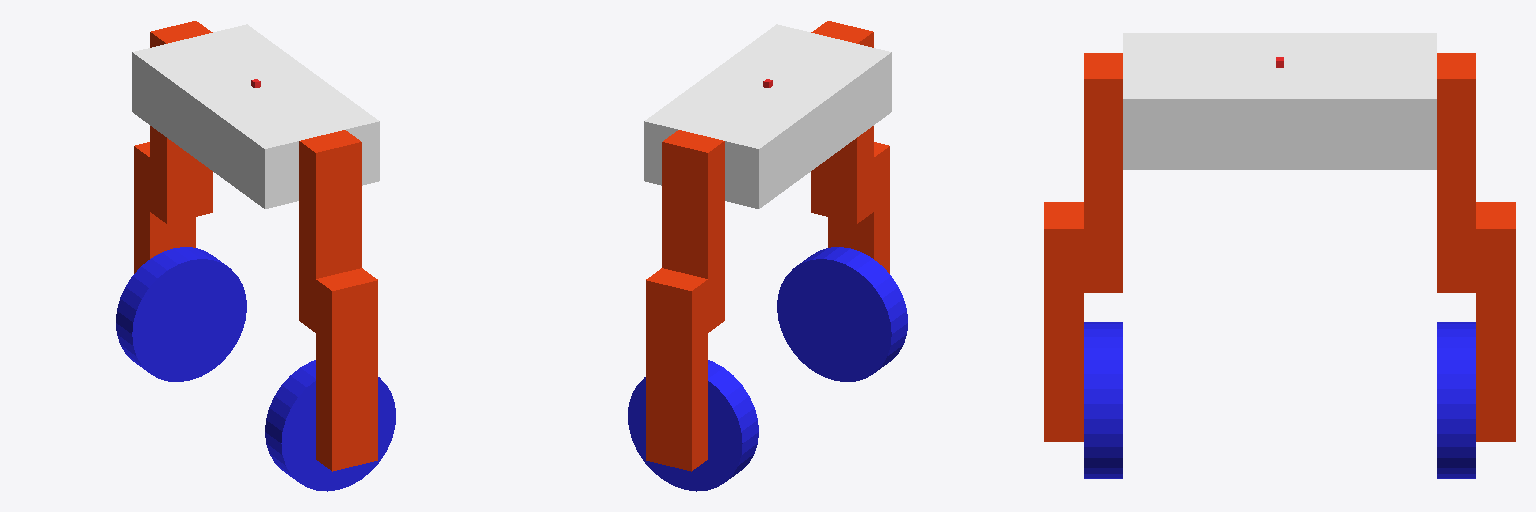
The robot description file, URDF, robot "bipedal_robot":
<?xml version="1.0" ?>
<!-- =================================================================================== -->
<!-- |    This document was autogenerated by xacro from bipedal_robot.urdf.xacro       | -->
<!-- |    EDITING THIS FILE BY HAND IS NOT RECOMMENDED                                 | -->
<!-- =================================================================================== -->
<robot name="bipedal_robot">
  <!-- This file is not a robot in and of itself, it just contains some useful tags that could be included in any robot -->
  <!-- Specify some colours -->
  <material name="white">
    <color rgba="1 1 1 1"/>
  </material>
  <material name="orange">
    <color rgba="1 0.3 0.1 1"/>
  </material>
  <material name="blue">
    <color rgba="0.2 0.2 1 1"/>
  </material>
  <material name="red">
    <color rgba="1 0.2 0.2 1"/>
  </material>
  <!-- Specify some standard inertial calculations https://en.wikipedia.org/wiki/List_of_moments_of_inertia -->
  <!-- These make use of xacro's mathematical functionality -->
  <!--*** Define Properties ***-->
  <!--*** Define Macros ***-->
  <!-- Initializing Macro -->
  <!-- Links -->
  <!-- World -->
  <link name="world"/>
  <link name="base_link">
    <visual>
      <origin rpy="0 0 0" xyz="0 0 0"/>
      <geometry>
        <box size="0.2 0.4 0.1"/>
      </geometry>
      <material name="white"/>
    </visual>
    <collision>
      <origin rpy="0 0 0" xyz="0 0 0"/>
      <geometry>
        <box size="0.2 0.4 0.1"/>
      </geometry>
    </collision>
    <inertial>
      <origin rpy="0 0 0" xyz="0 0 0"/>
      <mass value="17.6"/>
      <inertia ixx="0.2493333333333334" ixy="0.0" ixz="0.0" iyy="0.07333333333333335" iyz="0.0" izz="0.2933333333333334"/>
    </inertial>
  </link>
  <link name="right_upper_leg_link">
    <visual>
      <origin rpy="0 0 0" xyz="0 0 -0.09999999999999999"/>
      <geometry>
        <box size="0.08 0.05 0.3"/>
      </geometry>
      <material name="orange"/>
    </visual>
    <collision>
      <origin rpy="0 0 0" xyz="0 0 -0.09999999999999999"/>
      <geometry>
        <box size="0.08 0.05 0.3"/>
      </geometry>
    </collision>
    <inertial>
      <origin rpy="0 0 0" xyz="0 0 -0.09999999999999999"/>
      <mass value="1.4"/>
      <inertia ixx="0.010791666666666665" ixy="0.0" ixz="0.0" iyy="0.011246666666666665" iyz="0.0" izz="0.0010383333333333334"/>
    </inertial>
  </link>
  <link name="right_lower_leg_link">
    <visual>
      <origin rpy="0 0 0" xyz="0 0 -0.09999999999999999"/>
      <geometry>
        <box size="0.08 0.05 0.3"/>
      </geometry>
      <material name="orange"/>
    </visual>
    <collision>
      <origin rpy="0 0 0" xyz="0 0 -0.09999999999999999"/>
      <geometry>
        <box size="0.08 0.05 0.3"/>
      </geometry>
    </collision>
    <inertial>
      <origin rpy="0 0 0" xyz="0 0 -0.09999999999999999"/>
      <mass value="1.4"/>
      <inertia ixx="0.010791666666666665" ixy="0.0" ixz="0.0" iyy="0.011246666666666665" iyz="0.0" izz="0.0010383333333333334"/>
    </inertial>
  </link>
  <link name="right_wheel_link">
    <visual>
      <origin rpy="0 0 0" xyz="0 0 0"/>
      <geometry>
        <cylinder length="0.05" radius="0.1"/>
      </geometry>
      <material name="blue"/>
    </visual>
    <collision>
      <origin rpy="0 0 0" xyz="0 0 0"/>
      <geometry>
        <cylinder length="0.05" radius="0.1"/>
      </geometry>
    </collision>
    <inertial>
      <origin rpy="0 0 0" xyz="0 0 0"/>
      <mass value="2.24"/>
      <inertia ixx="0.006066666666666668" ixy="0.0" ixz="0.0" iyy="0.006066666666666668" iyz="0.0" izz="0.011200000000000003"/>
    </inertial>
  </link>
  <link name="left_upper_leg_link">
    <visual>
      <origin rpy="0 0 0" xyz="0 0 -0.09999999999999999"/>
      <geometry>
        <box size="0.08 0.05 0.3"/>
      </geometry>
      <material name="orange"/>
    </visual>
    <collision>
      <origin rpy="0 0 0" xyz="0 0 -0.09999999999999999"/>
      <geometry>
        <box size="0.08 0.05 0.3"/>
      </geometry>
    </collision>
    <inertial>
      <origin rpy="0 0 0" xyz="0 0 -0.09999999999999999"/>
      <mass value="1.4"/>
      <inertia ixx="0.010791666666666665" ixy="0.0" ixz="0.0" iyy="0.011246666666666665" iyz="0.0" izz="0.0010383333333333334"/>
    </inertial>
  </link>
  <link name="left_lower_leg_link">
    <visual>
      <origin rpy="0 0 0" xyz="0 0 -0.09999999999999999"/>
      <geometry>
        <box size="0.08 0.05 0.3"/>
      </geometry>
      <material name="orange"/>
    </visual>
    <collision>
      <origin rpy="0 0 0" xyz="0 0 -0.09999999999999999"/>
      <geometry>
        <box size="0.08 0.05 0.3"/>
      </geometry>
    </collision>
    <inertial>
      <origin rpy="0 0 0" xyz="0 0 -0.09999999999999999"/>
      <mass value="1.4"/>
      <inertia ixx="0.010791666666666665" ixy="0.0" ixz="0.0" iyy="0.011246666666666665" iyz="0.0" izz="0.0010383333333333334"/>
    </inertial>
  </link>
  <link name="left_wheel_link">
    <visual>
      <origin rpy="0 0 0" xyz="0 0 0"/>
      <geometry>
        <cylinder length="0.05" radius="0.1"/>
      </geometry>
      <material name="blue"/>
    </visual>
    <collision>
      <origin rpy="0 0 0" xyz="0 0 0"/>
      <geometry>
        <cylinder length="0.05" radius="0.1"/>
      </geometry>
    </collision>
    <inertial>
      <origin rpy="0 0 0" xyz="0 0 0"/>
      <mass value="2.24"/>
      <inertia ixx="0.006066666666666668" ixy="0.0" ixz="0.0" iyy="0.006066666666666668" iyz="0.0" izz="0.011200000000000003"/>
    </inertial>
  </link>
  <!-- IMU -->
  <link name="IMU_link">
    <inertial>
      <mass value="0.001"/>
      <origin rpy="0 0 0" xyz="0 0 0"/>
      <inertia ixx="0.0001" ixy="0" ixz="0" iyy="0.000001" iyz="0" izz="0.0001"/>
    </inertial>
    <visual>
      <origin rpy="0 0 0" xyz="0 0 0"/>
      <geometry>
        <box size="0.01 0.01 0.01"/>
      </geometry>
      <material name="red"/>
    </visual>
    <collision>
      <origin rpy="0 0 0" xyz="0 0 0"/>
      <geometry>
        <box size=".01 .01 .01"/>
      </geometry>
    </collision>
  </link>
  <!-- Joints -->
  <!-- World -->
  <joint name="base_joint" type="floating">
    <origin rpy="0 0 0" xyz="0 0 1"/>
    <parent link="world"/>
    <child link="base_link"/>
  </joint>
  <joint name="hip_right_joint" type="revolute">
    <parent link="base_link"/>
    <child link="right_upper_leg_link"/>
    <origin rpy="0 0 0" xyz="0 0.225 0"/>
    <axis xyz="0 1 0"/>
    <limit effort="10" lower="-1.57" upper="1.57" velocity="100"/>
    <dynamics damping="0.1" friction="0.1"/>
  </joint>
  <joint name="hip_left_joint" type="revolute">
    <parent link="base_link"/>
    <child link="left_upper_leg_link"/>
    <origin rpy="0 0 0" xyz="0 -0.225 0"/>
    <axis xyz="0 1 0"/>
    <limit effort="10" lower="-1.57" upper="1.57" velocity="100"/>
    <dynamics damping="0.1" friction="0.1"/>
  </joint>
  <joint name="knee_right_joint" type="revolute">
    <parent link="right_upper_leg_link"/>
    <child link="right_lower_leg_link"/>
    <origin rpy="0 0 0" xyz="0 0.05 -0.21"/>
    <axis xyz="0 1 0"/>
    <limit effort="10" lower="-1.57" upper="1.57" velocity="100"/>
    <dynamics damping="0.1" friction="0.1"/>
  </joint>
  <joint name="knee_left_joint" type="revolute">
    <parent link="left_upper_leg_link"/>
    <child link="left_lower_leg_link"/>
    <origin rpy="0 0 0" xyz="0 -0.05 -0.21"/>
    <axis xyz="0 1 0"/>
    <limit effort="10" lower="-1.57" upper="1.57" velocity="100"/>
    <dynamics damping="0.1" friction="0.1"/>
  </joint>
  <joint name="ankle_right_joint" type="continuous">
    <parent link="right_lower_leg_link"/>
    <child link="right_wheel_link"/>
    <origin rpy="1.57 0 0" xyz="0 -0.05 -0.21"/>
    <axis xyz="0 0 1"/>
    <dynamics damping="0.1" friction="0.1"/>
    <limit effort="10" velocity="100"/>
  </joint>
  <joint name="ankle_left_joint" type="continuous">
    <parent link="left_lower_leg_link"/>
    <child link="left_wheel_link"/>
    <origin rpy="1.57 0 0" xyz="0 0.05 -0.21"/>
    <axis xyz="0 0 1"/>
    <dynamics damping="0.1" friction="0.1"/>
    <limit effort="10" velocity="100"/>
  </joint>
  <!-- IMU -->
  <joint name="IMU_joint" type="fixed">
    <axis xyz="1 0 0"/>
    <origin xyz="0 0 0.055"/>
    <parent link="base_link"/>
    <child link="IMU_link"/>
  </joint>
  <gazebo reference="base_link">
    <material>Gazebo/Green</material>
  </gazebo>
  <gazebo reference="right_upper_leg_link">
    <material>Gazebo/Red</material>
  </gazebo>
  <gazebo reference="left_upper_leg_link">
    <material>Gazebo/Red</material>
  </gazebo>
  <gazebo reference="right_lower_leg_link">
    <material>Gazebo/Red</material>
  </gazebo>
  <gazebo reference="left_lower_leg_link">
    <material>Gazebo/Red</material>
  </gazebo>
  <gazebo reference="right_wheel_link">
    <material>Gazebo/Blue</material>
  </gazebo>
  <gazebo reference="left_wheel_link">
    <material>Gazebo/Blue</material>
  </gazebo>
  <!-- Include Gazebo Plugins -->
  <gazebo>
    <plugin filename="libgazebo_ros_joint_state_publisher.so" name="gazebo_ros_joint_state_publisher">
      <update_rate>20</update_rate>
      <joint_name>hip_right_joint</joint_name>
      <joint_name>hip_left_joint</joint_name>
      <joint_name>knee_right_joint</joint_name>
      <joint_name>knee_left_joint</joint_name>
      <joint_name>ankle_right_joint</joint_name>
      <joint_name>ankle_left_joint</joint_name>
    </plugin>
  </gazebo>
  <gazebo>
    <plugin filename="libgazebo_ros_joint_pose_trajectory.so" name="gazebo_ros_joint_pose_trajectory">
      <update_rate>2</update_rate>
    </plugin>
  </gazebo>
  <gazebo>
    <plugin filename="libgazebo_ros_imu.so" name="imu_plugin">
      <alwaysOn>true</alwaysOn>
      <bodyName>base_footprint</bodyName>
      <topicName>imu</topicName>
      <serviceName>imu_service</serviceName>
      <gaussianNoise>0.0</gaussianNoise>
      <updateRate>20.0</updateRate>
    </plugin>
    <material>Gazebo/White</material>
  </gazebo>
  <ros2_control name="GazeboSystem" type="system">
    <hardware>
      <plugin>gazebo_ros2_control/GazeboSystem</plugin>
    </hardware>
    <!-- Servo joints -->
    <joint name="hip_right_joint">
      <command_interface name="position">
        <param name="min">-1.5708</param>
        <param name="max">1.5708</param>
      </command_interface>
      <state_interface name="position"/>
    </joint>
    <joint name="hip_left_joint">
      <command_interface name="position">
        <param name="min">-1.5708</param>
        <param name="max">1.5708</param>
      </command_interface>
      <state_interface name="position"/>
    </joint>
    <joint name="knee_right_joint">
      <command_interface name="position">
        <param name="min">-1.5708</param>
        <param name="max">1.5708</param>
      </command_interface>
      <state_interface name="position"/>
    </joint>
    <joint name="knee_left_joint">
      <command_interface name="position">
        <param name="min">-1.5708</param>
        <param name="max">1.5708</param>
      </command_interface>
      <state_interface name="position"/>
    </joint>
    <!-- DC joints -->
    <joint name="ankle_right_joint">
      <command_interface name="velocity">
        <param name="min">-10</param>
        <param name="max">10</param>
      </command_interface>
      <state_interface name="velocity"/>
    </joint>
    <joint name="ankle_left_joint">
      <command_interface name="velocity">
        <param name="min">-10</param>
        <param name="max">10</param>
      </command_interface>
      <state_interface name="velocity"/>
    </joint>
  </ros2_control>
  <gazebo>
    <plugin filename="libgazebo_ros2_control.so" name="gazebo_ros2_control">
      <parameters>[local-path]/Documents/PROJECTS-OF-MINE/Bipedal_Work/ros2_bipedal_ws/install/bipedal_robot_description/share/bipedal_robot_description/config/my_controllers.yaml</parameters>
    </plugin>
  </gazebo>
</robot>

--- Facts derived from the render (not from the file) ---
The picture shows the robot from 3 angles, left to right: view 1: azimuth 30°, elevation 25°; view 2: azimuth 150°, elevation 25°; view 3: azimuth 270°, elevation 25°; orthographic projection.
Robot: bipedal_robot — 9 links, 8 joints (4 revolute, 2 continuous, 1 fixed, 1 floating); root link world; default pose: every joint at zero.
Visible links, largest first — view 1: base_link, right_wheel_link, left_lower_leg_link, left_upper_leg_link, left_wheel_link, right_upper_leg_link, right_lower_leg_link; view 2: base_link, left_wheel_link, right_lower_leg_link, right_upper_leg_link, right_wheel_link, left_upper_leg_link, left_lower_leg_link; view 3: base_link, right_lower_leg_link, left_lower_leg_link, right_upper_leg_link, left_upper_leg_link, right_wheel_link, left_wheel_link.
Link boxes in pixels (box(x1,y1,x2,y2)): base_link: box(132, 24, 379, 208); right_wheel_link: box(116, 247, 246, 381); left_lower_leg_link: box(316, 268, 377, 471); left_upper_leg_link: box(299, 130, 361, 332); left_wheel_link: box(265, 360, 395, 491); right_upper_leg_link: box(150, 21, 212, 223); right_lower_leg_link: box(134, 142, 195, 273); base_link: box(644, 24, 891, 208); left_wheel_link: box(777, 247, 907, 381); right_lower_leg_link: box(646, 268, 707, 471); right_upper_leg_link: box(662, 130, 724, 332); right_wheel_link: box(628, 360, 758, 491); left_upper_leg_link: box(811, 21, 873, 223); left_lower_leg_link: box(828, 142, 889, 273); base_link: box(1123, 33, 1436, 169); right_lower_leg_link: box(1476, 202, 1515, 441); left_lower_leg_link: box(1044, 202, 1083, 441); right_upper_leg_link: box(1437, 53, 1475, 292); left_upper_leg_link: box(1084, 53, 1122, 292); right_wheel_link: box(1437, 322, 1475, 478); left_wheel_link: box(1084, 322, 1122, 478).
Bounding box of the posed robot: 0.2 × 0.6 × 0.58 m (x, y, z).
Geometry: primitives only (box / cylinder / sphere), no mesh files.
